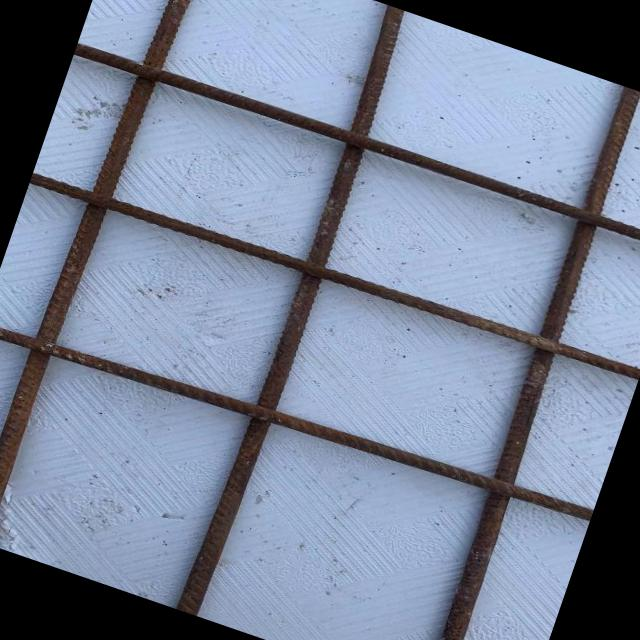ribbed bar: (169, 1, 414, 618), (0, 300, 592, 542), (28, 160, 640, 393), (73, 35, 640, 262), (411, 84, 640, 640), (0, 0, 215, 550)
